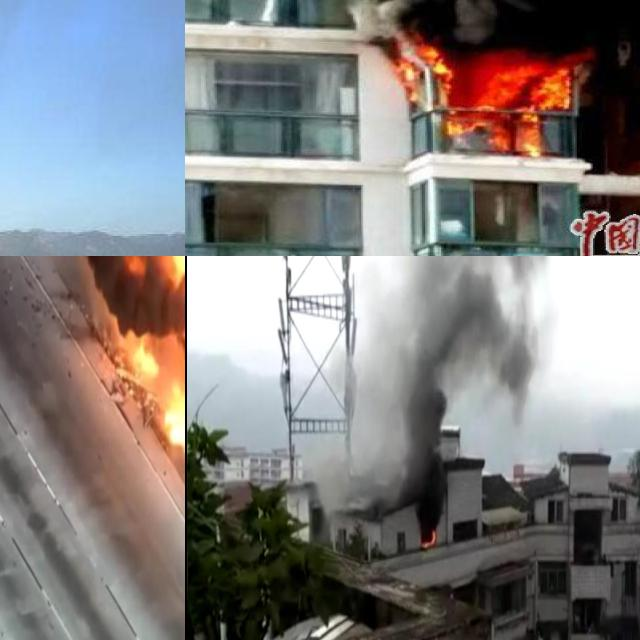fire: (391, 31, 582, 157), (131, 256, 185, 335), (163, 383, 185, 455), (420, 524, 439, 549)
smoke: (306, 256, 576, 522), (185, 0, 640, 61)
